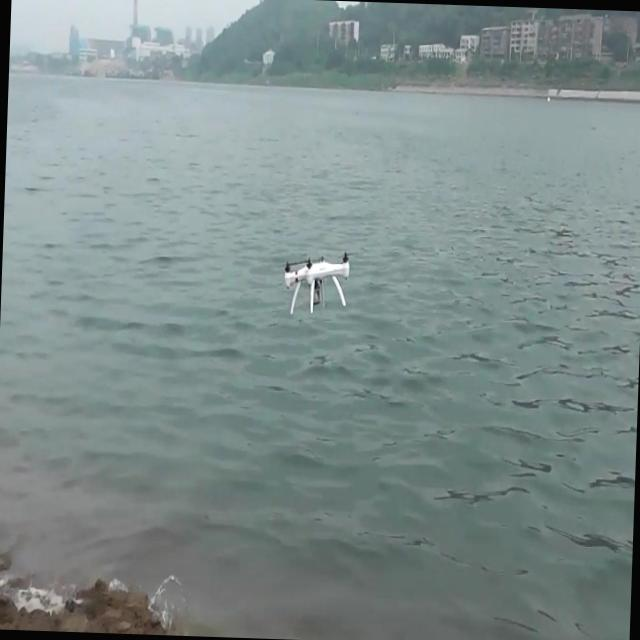drone: (278, 246, 352, 318)
